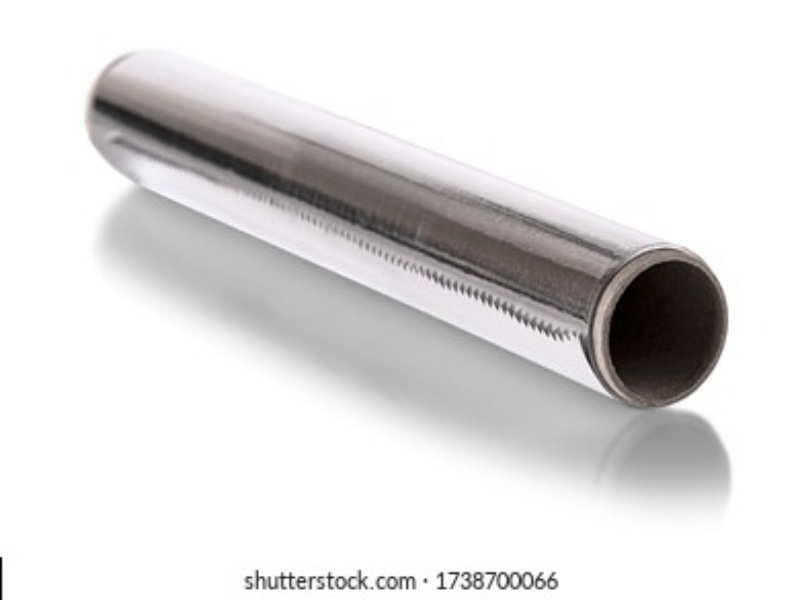Aluminium_Foil: (77, 43, 703, 417)
